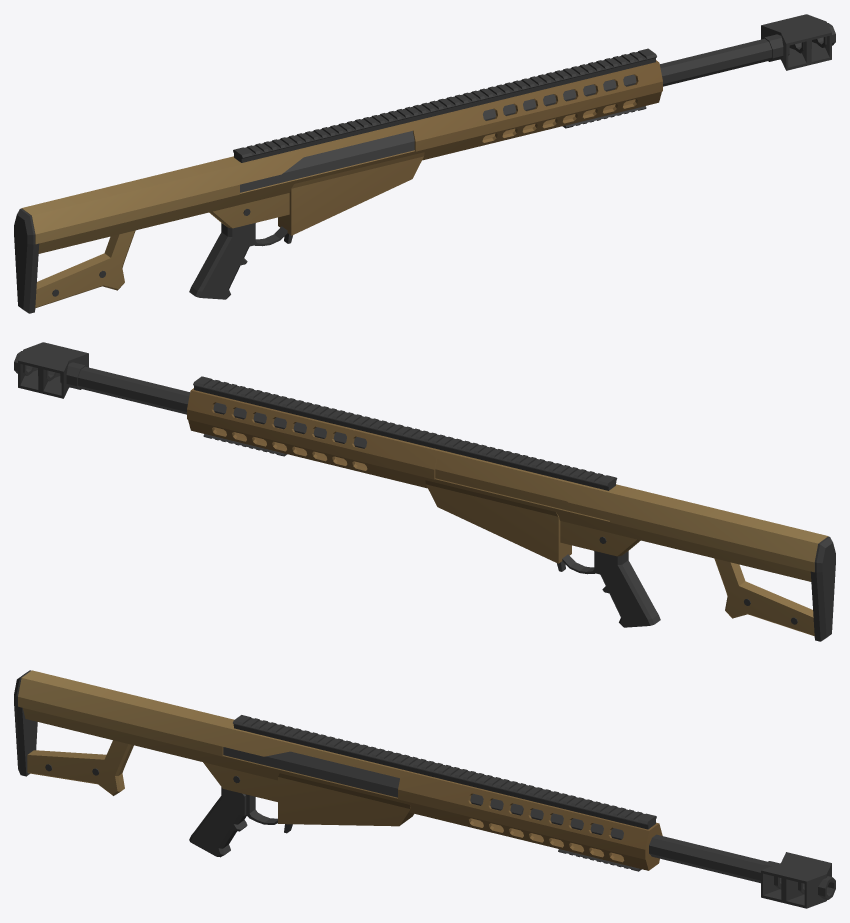
File: SniperRifle4_06.fbx
3 renders of one model, top to bottom at view 1: azimuth 30°, elevation 25°; view 2: azimuth 150°, elevation 25°; view 3: azimuth 330°, elevation 25°, orthographic.
Parts seen in each view (by area): view 1: SniperRifle4_06; view 2: SniperRifle4_06; view 3: SniperRifle4_06.
Part boxes in pixels (x1,y1,x2,y2): SniperRifle4_06: (14, 14, 835, 313); SniperRifle4_06: (14, 342, 835, 641); SniperRifle4_06: (14, 670, 835, 908).
Size of the model in its own units: 1.39 by 0.2303 by 0.0749.
